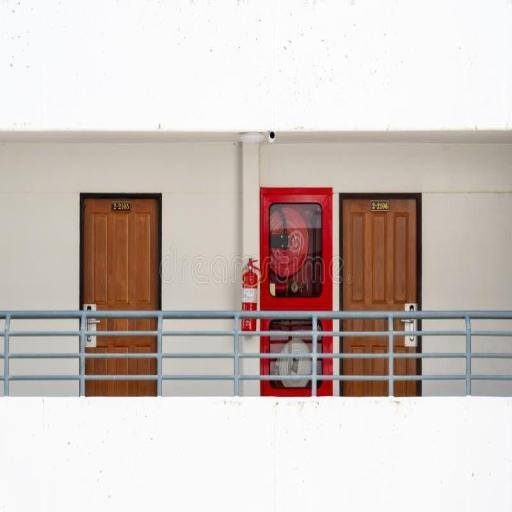fire_hose: (260, 182, 334, 398)
